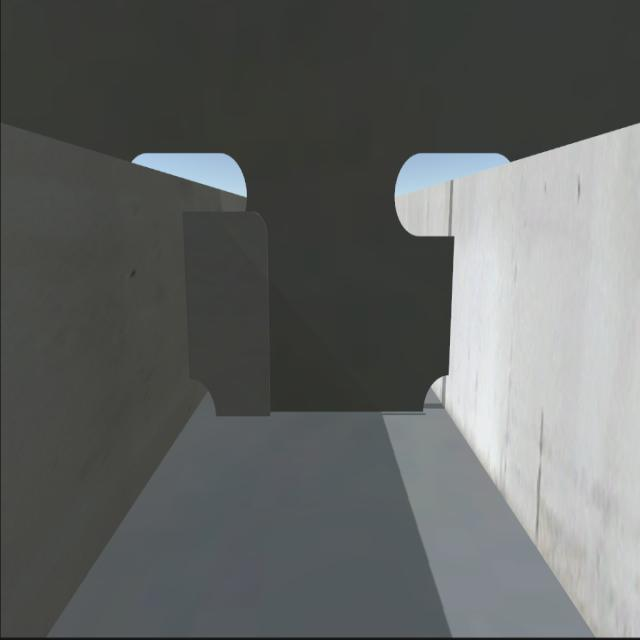fillet_hole: (421, 365, 456, 417), (190, 377, 220, 422)
fillet_yong_jeop_jang: (217, 406, 425, 419)
longi_yong_jeop_jang: (181, 213, 198, 380), (444, 242, 462, 371)
plate_CP05: (189, 214, 273, 418)
